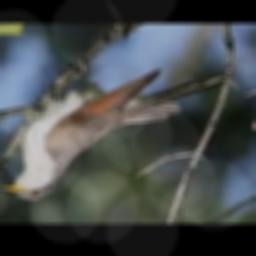Cuckoo: (0, 72, 227, 200)
